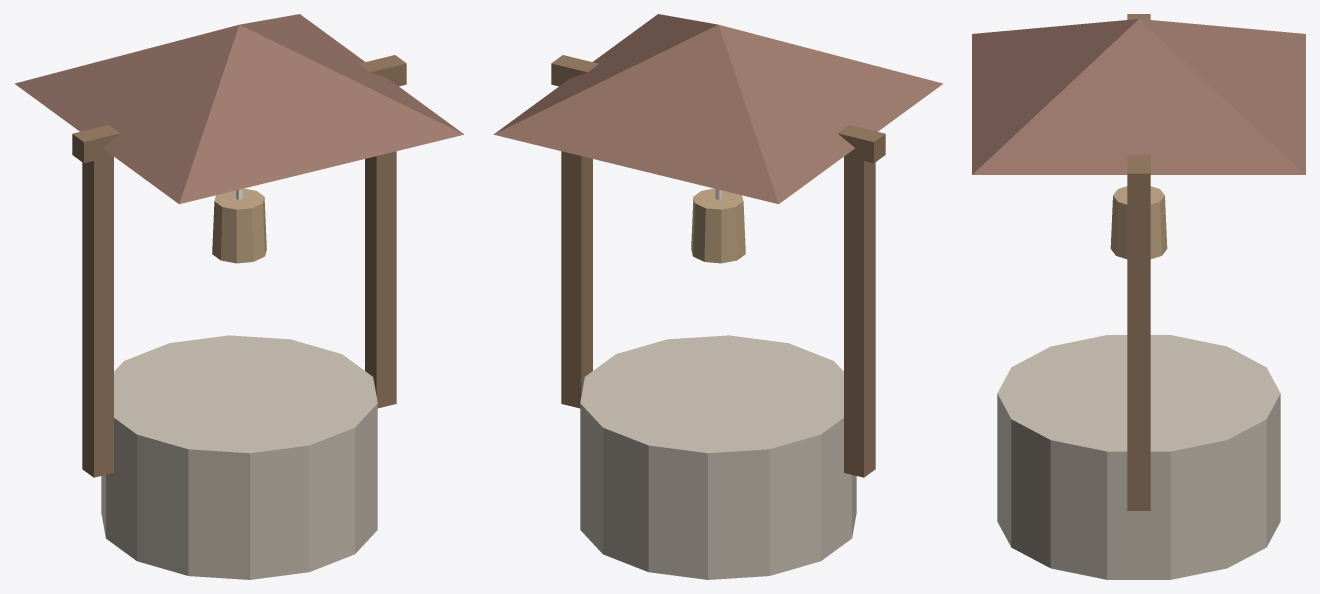
File: chibi_well.glb
3 views of the same model, side by side, from view 1: azimuth 30°, elevation 25°; view 2: azimuth 150°, elevation 25°; view 3: azimuth 270°, elevation 25° (orthographic).
Visible parts, largest first — view 1: ChibiWell; view 2: ChibiWell; view 3: ChibiWell.
Part boxes in pixels (x1=…): ChibiWell: x1=15, y1=14, x2=463, y2=579; ChibiWell: x1=494, y1=14, x2=942, y2=579; ChibiWell: x1=972, y1=14, x2=1305, y2=579.
Size of the model in its own units: 1.6 by 2.35 by 1.41.
